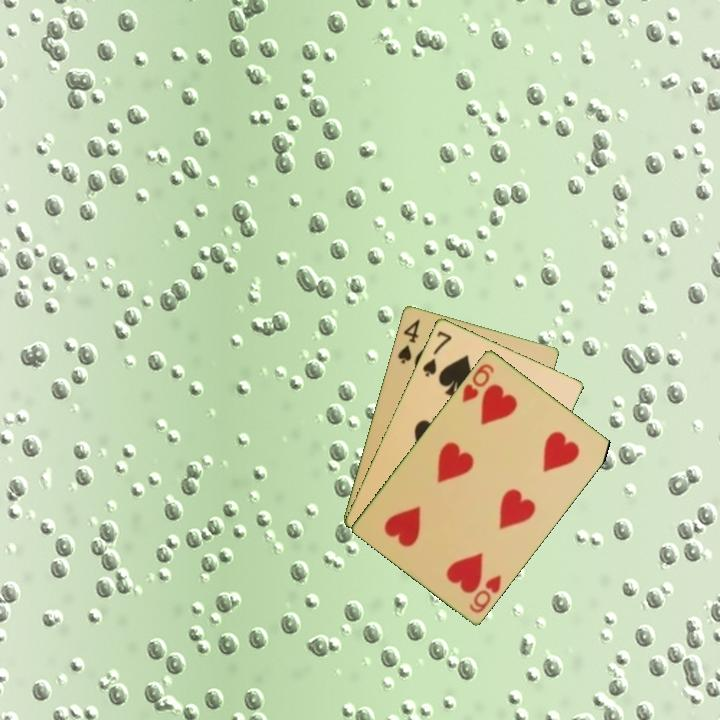4s: (394, 316, 423, 366)
6h: (458, 360, 497, 405), (466, 571, 504, 616)
7s: (419, 327, 454, 380)
